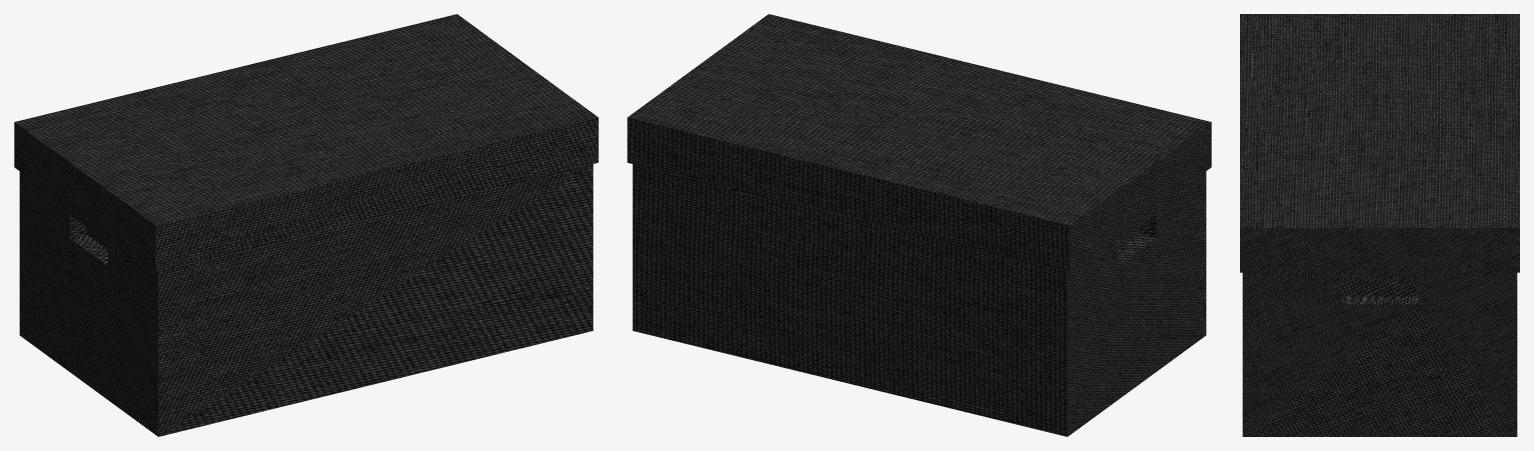
Rendered from clothesbox_big.fbx.
3 views of the same model, side by side, from view 1: azimuth 30°, elevation 25°; view 2: azimuth 150°, elevation 25°; view 3: azimuth 270°, elevation 25° (orthographic).
Parts seen in each view (by area): view 1: pCube45; view 2: pCube45; view 3: pCube45.
Boxes of the visible parts, x1,y1,x2,y2 form: pCube45: (14, 14, 598, 436); pCube45: (627, 14, 1211, 436); pCube45: (1240, 14, 1519, 436).
Bounding box in the file's own units: 0.0319 × 0.0147 × 0.0177.
1 material, 1 textured.
